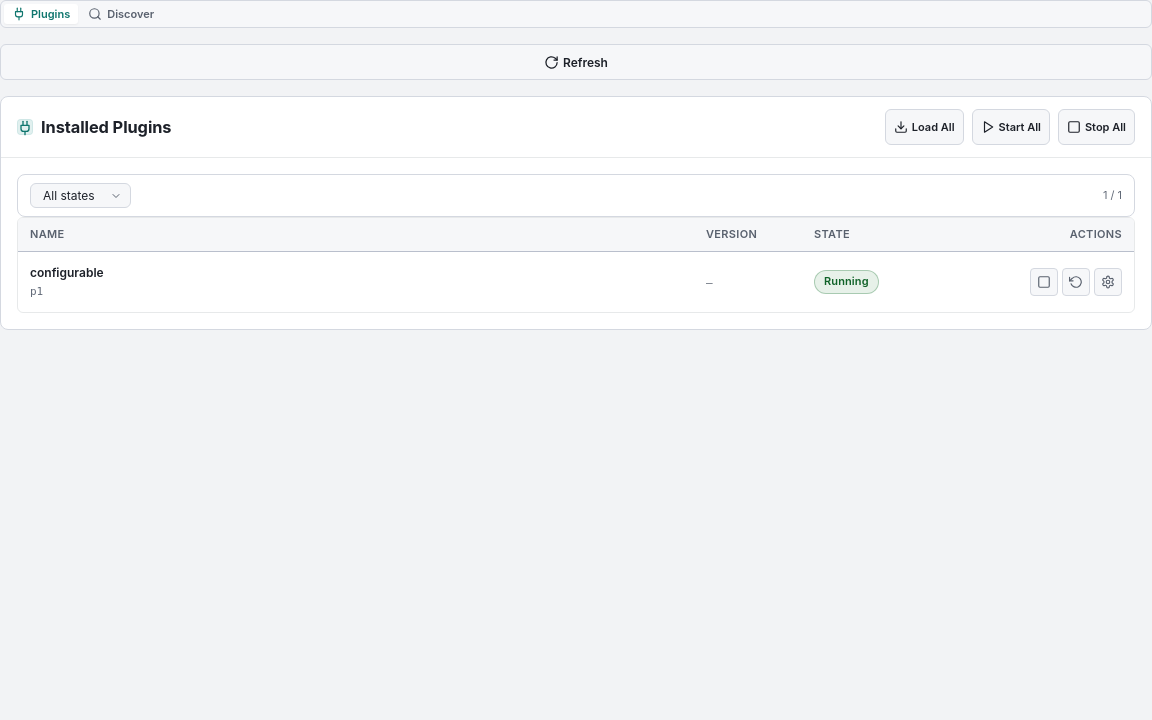
it: Plugins.vue › opens config modal when config button clicked
Click the button named "Configure".
click(1108, 282)  # box [1094,268,1122,296]
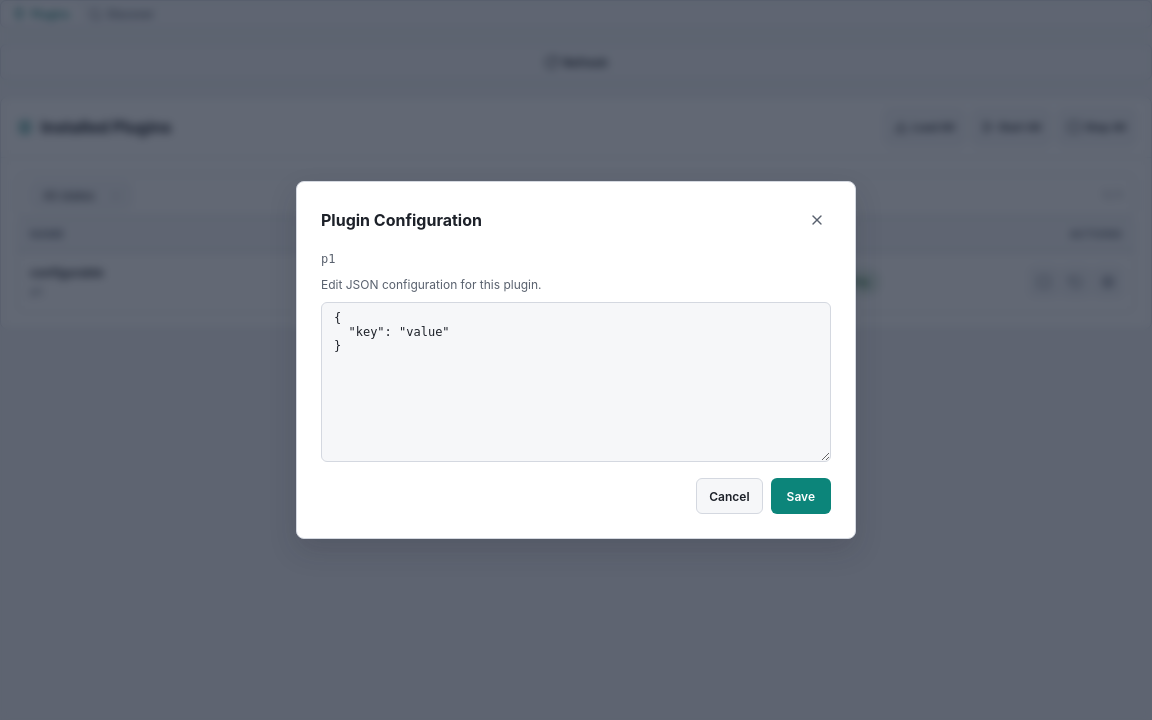
Expected: the dialog with class "modal-overlay" is shown
